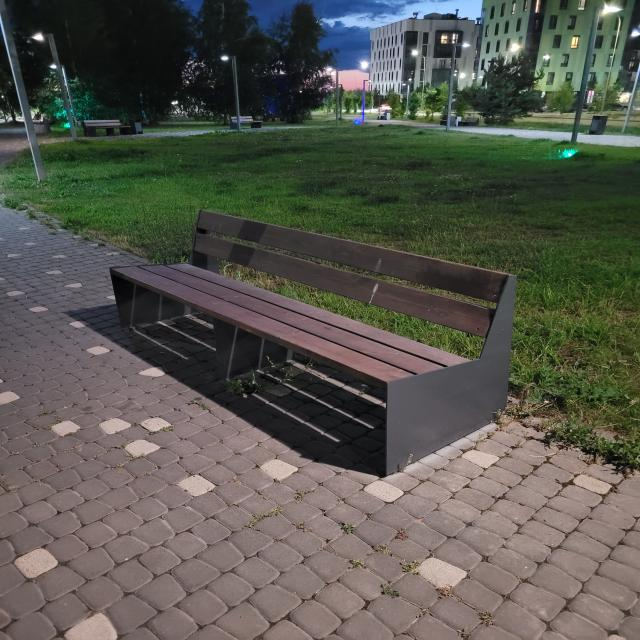Bench: (111, 210, 516, 476)
